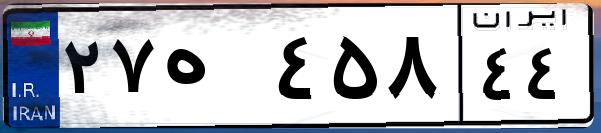2: (57, 26, 110, 100)
4: (270, 28, 330, 110), (475, 38, 525, 113), (525, 38, 570, 115)
5: (330, 28, 385, 110)
7: (110, 28, 158, 98)
8: (385, 28, 445, 110)
ه: (158, 20, 270, 120)
